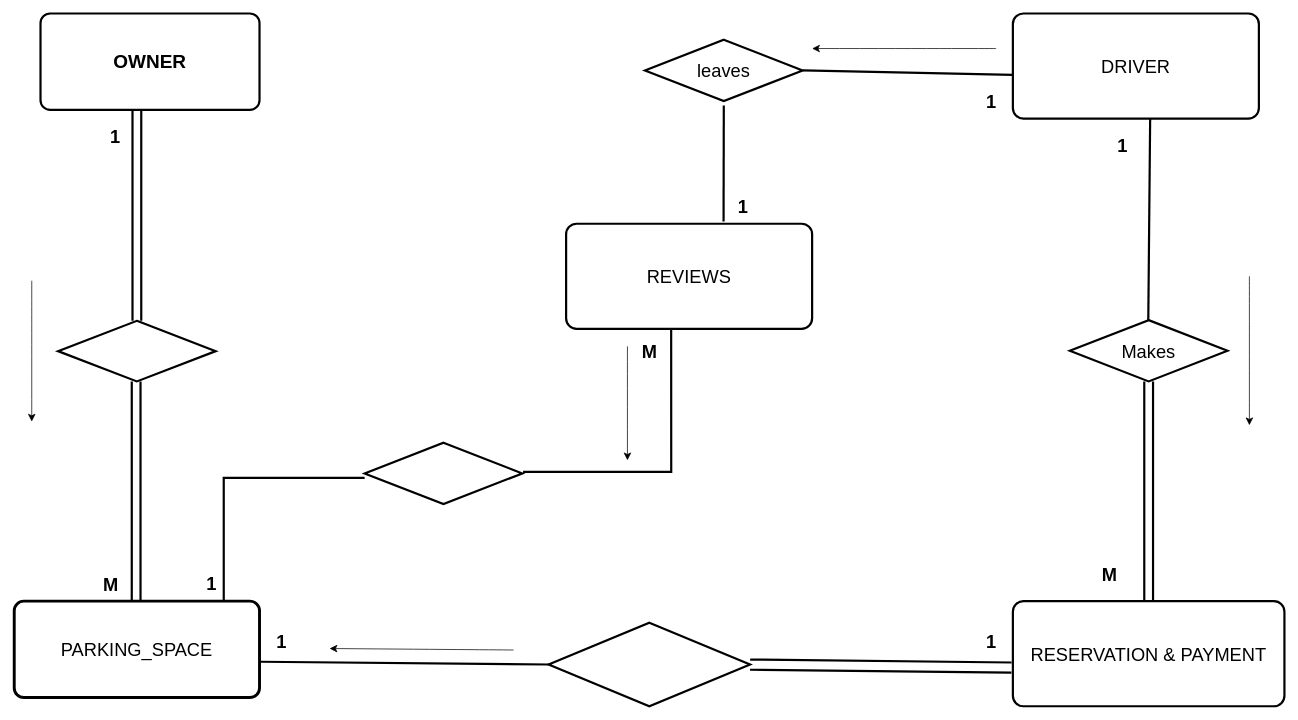
This 1298x720 diagram has some shape labels left out. The centre of each missing label's shape, as x and y in pixels:
"confirms" belongs at (649,664).
"is for" belongs at (443,473).
"Lists" belongs at (136,350).
